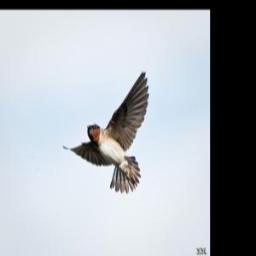Swallow: (62, 68, 151, 196)
